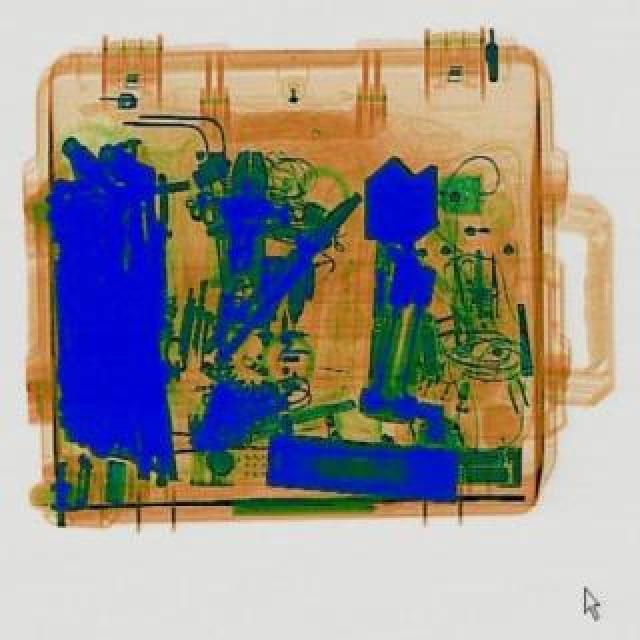wrench: (196, 180, 366, 364), (214, 148, 270, 364)
